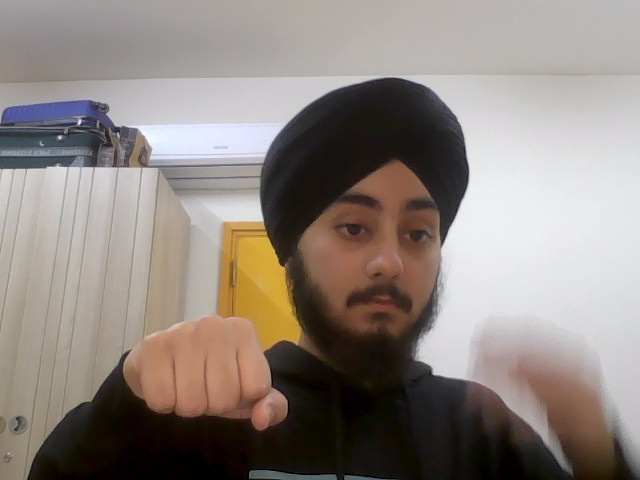Yes: (125, 311, 292, 440)
